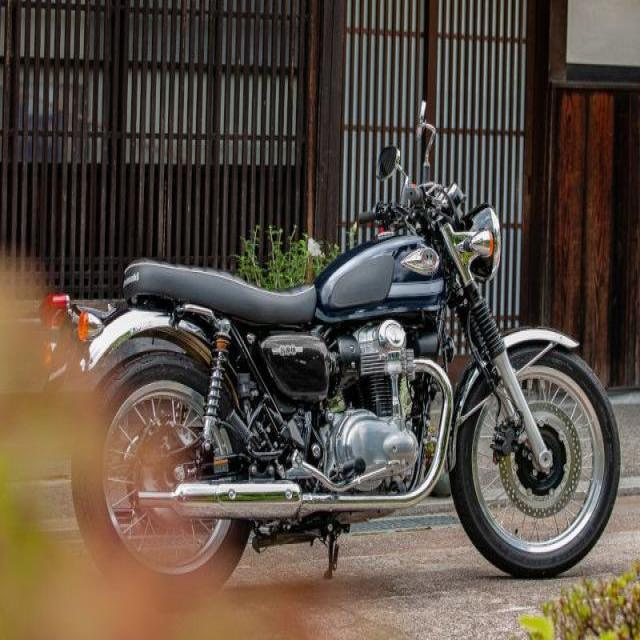Bike: (42, 108, 620, 589)
